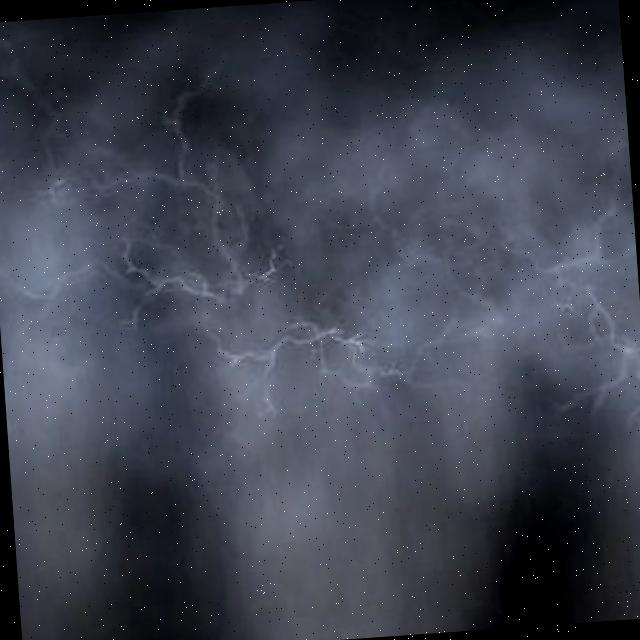Ns: (1, 56, 640, 640)
